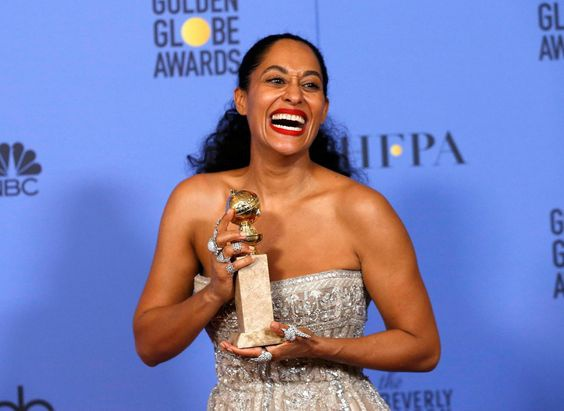hand: (222, 325, 325, 354)
